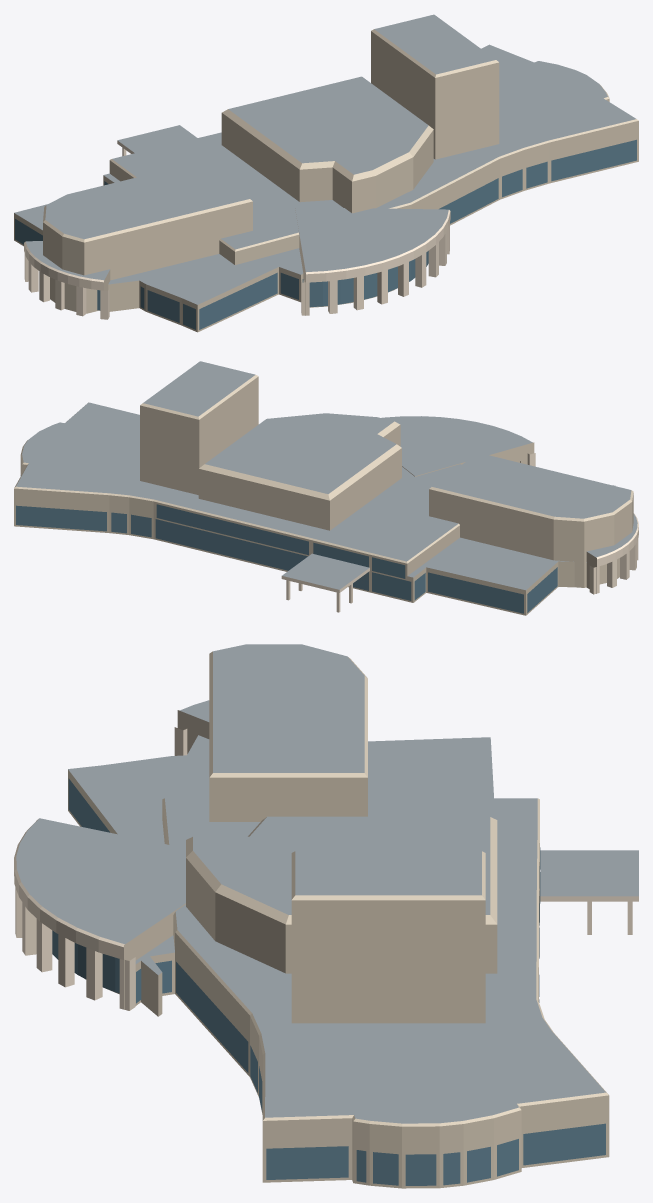
The model's file is jax-times-union-center.glb.
The picture shows the model from 3 angles, top to bottom: view 1: azimuth 30°, elevation 25°; view 2: azimuth 150°, elevation 25°; view 3: azimuth 270°, elevation 25°; orthographic projection. The views are drawn at different scales.
Visible parts, largest first — view 1: Jacksonville Center for the Performing Arts; view 2: Jacksonville Center for the Performing Arts; view 3: Jacksonville Center for the Performing Arts.
Part boxes in pixels (x1=…): Jacksonville Center for the Performing Arts: x1=14, y1=14, x2=638, y2=332; Jacksonville Center for the Performing Arts: x1=14, y1=361, x2=638, y2=615; Jacksonville Center for the Performing Arts: x1=14, y1=644, x2=638, y2=1188.
Size of the model in its own units: 178 by 35.7 by 106.
